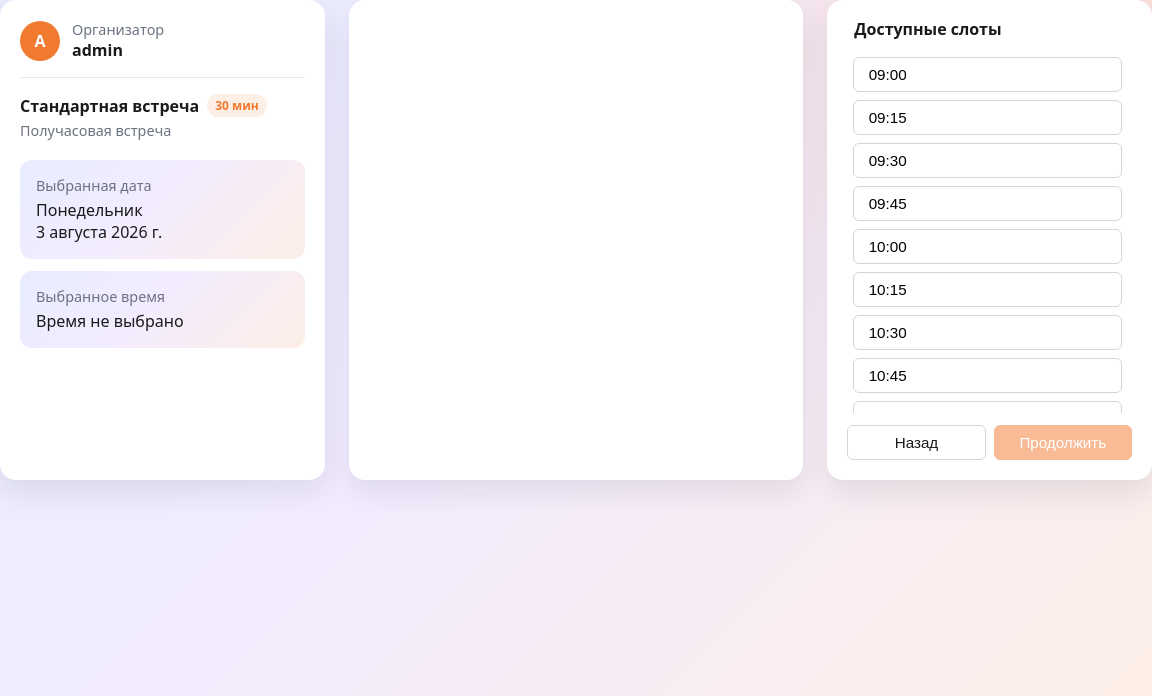
BookingSchedulePage › после заполнения формы показывает подтверждение в той же модалке
Expected: the element named "Календарь" is shown, [349,0,803,480]
Click the button "09:00" at (888, 75), box [853,57,1122,92]
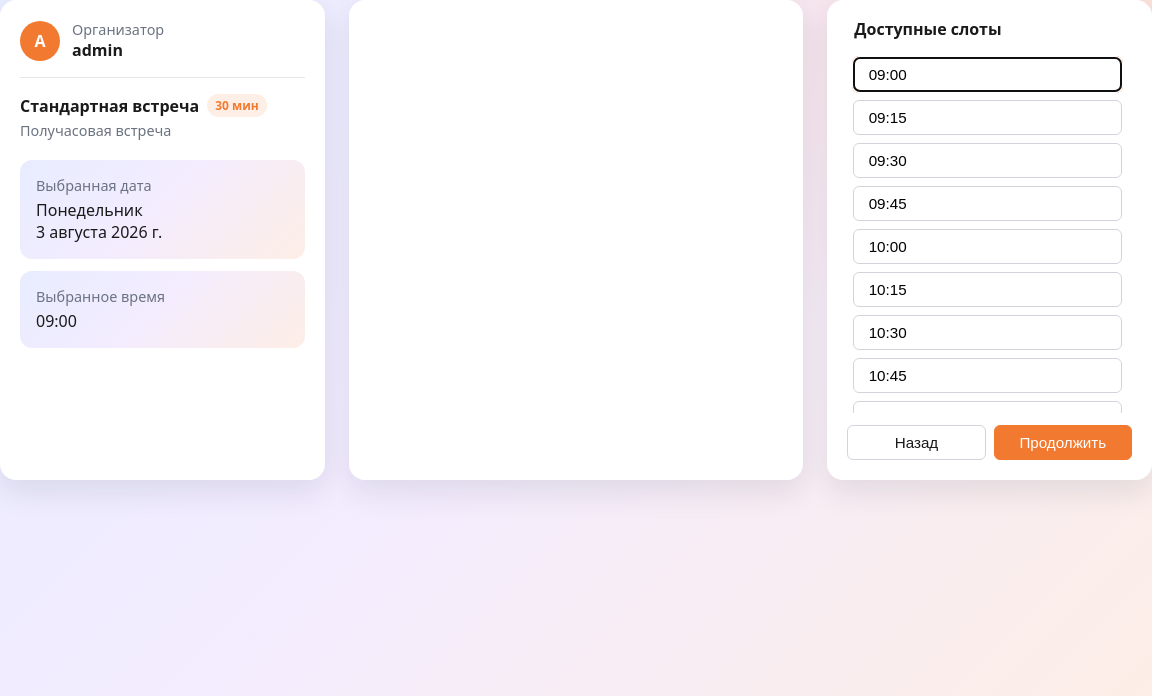
Click the button "Продолжить" at (1063, 442), box [994,425,1132,460]
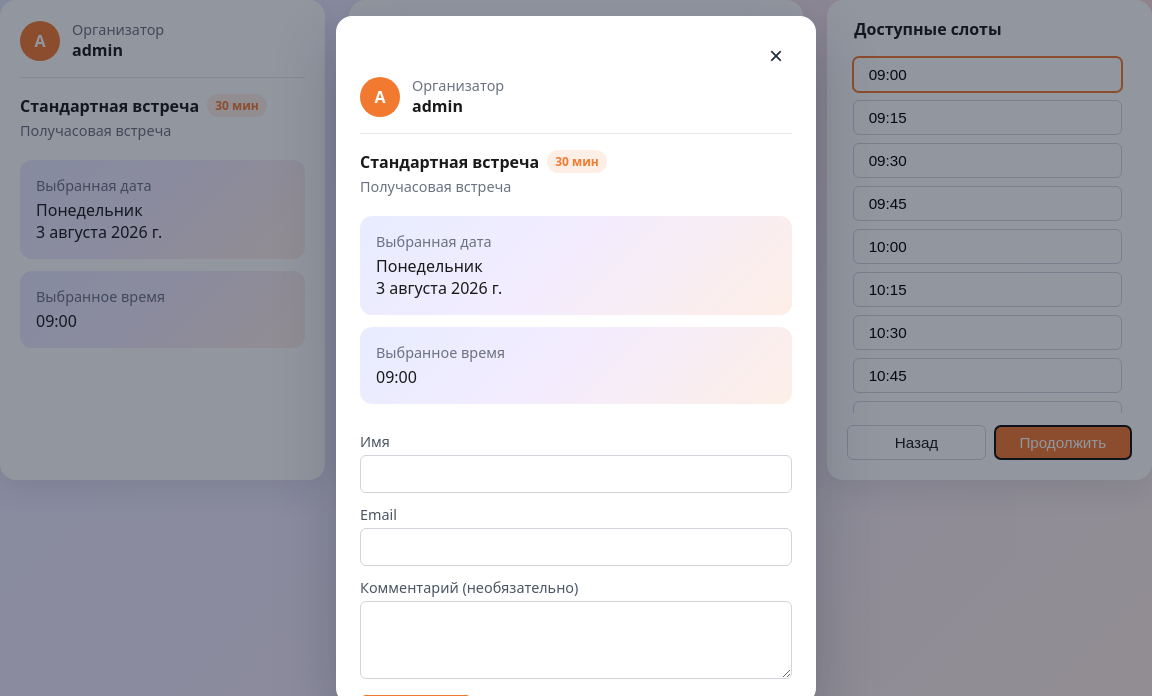
Type "Мария" into the field labelled "Имя" at (576, 474), box [360,455,792,493]
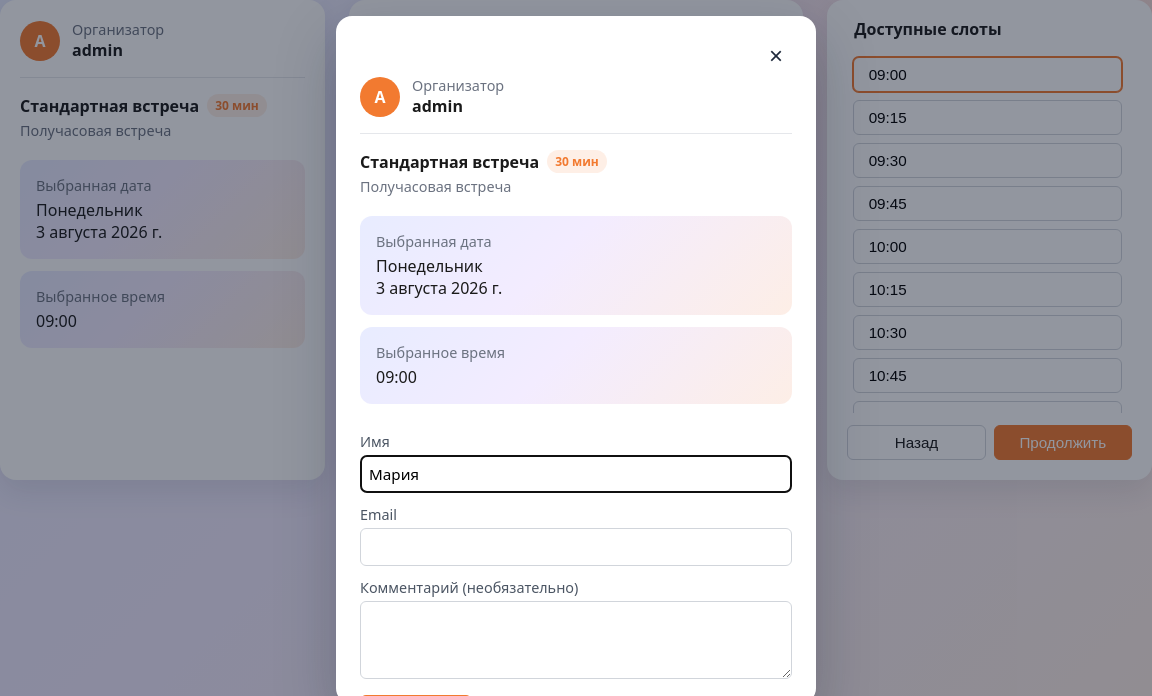
Type "maria@example.com" into the field labelled "Email" at (576, 547), box [360,528,792,566]
(page scrolled)
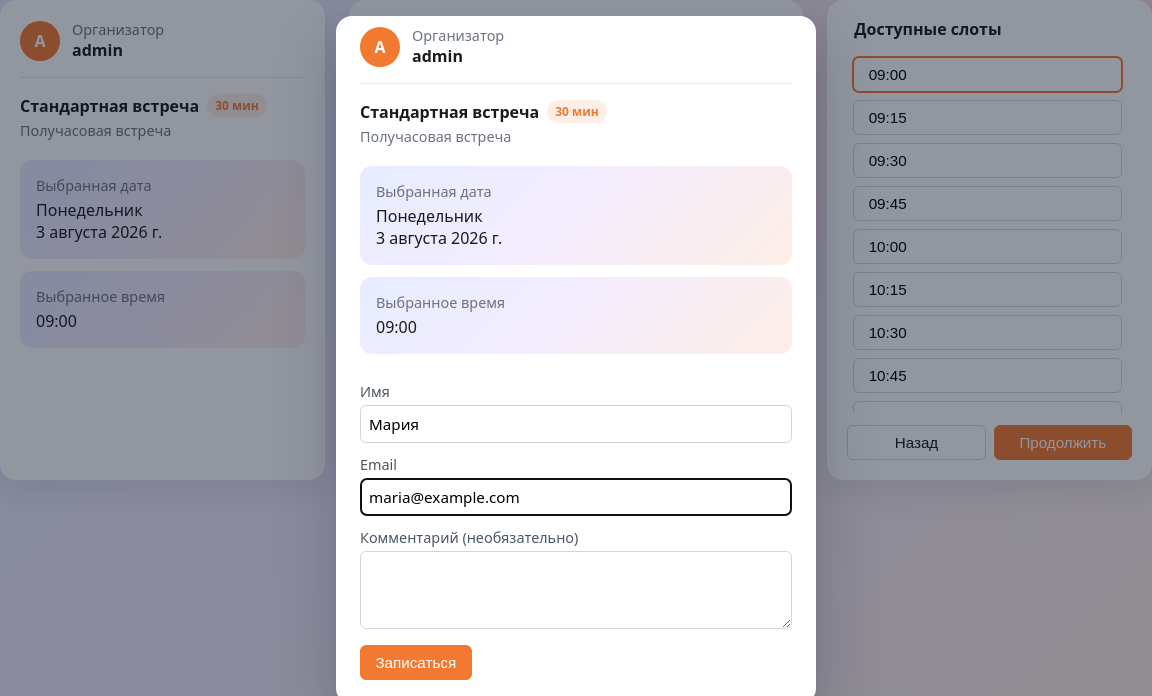
Click the button "Записаться" at (416, 663), box [360,645,472,680]
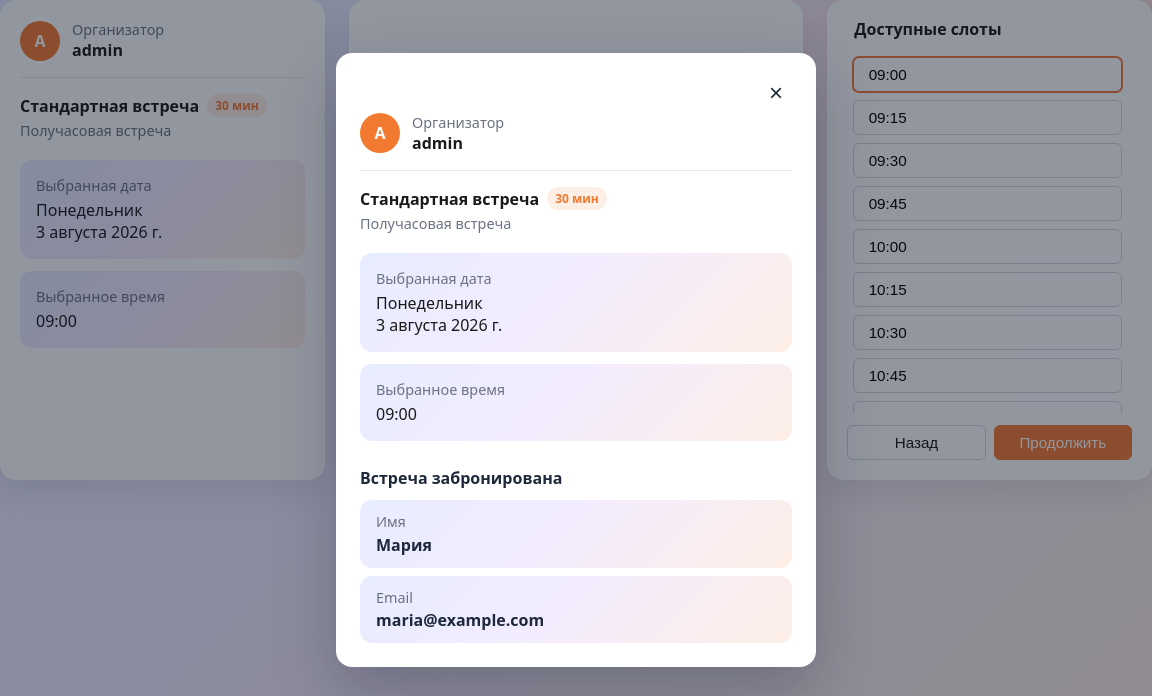
Expected: the heading "Встреча забронирована" is shown, [360,467,562,489]
Expected: the text "Мария" is shown, [376,534,432,556]
Expected: the text "maria@example.com" is shown, [376,609,544,631]
